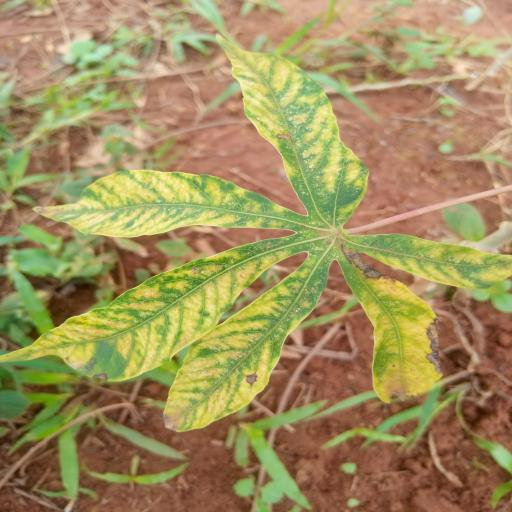Cassava_Mosaic: (5, 31, 512, 438)
